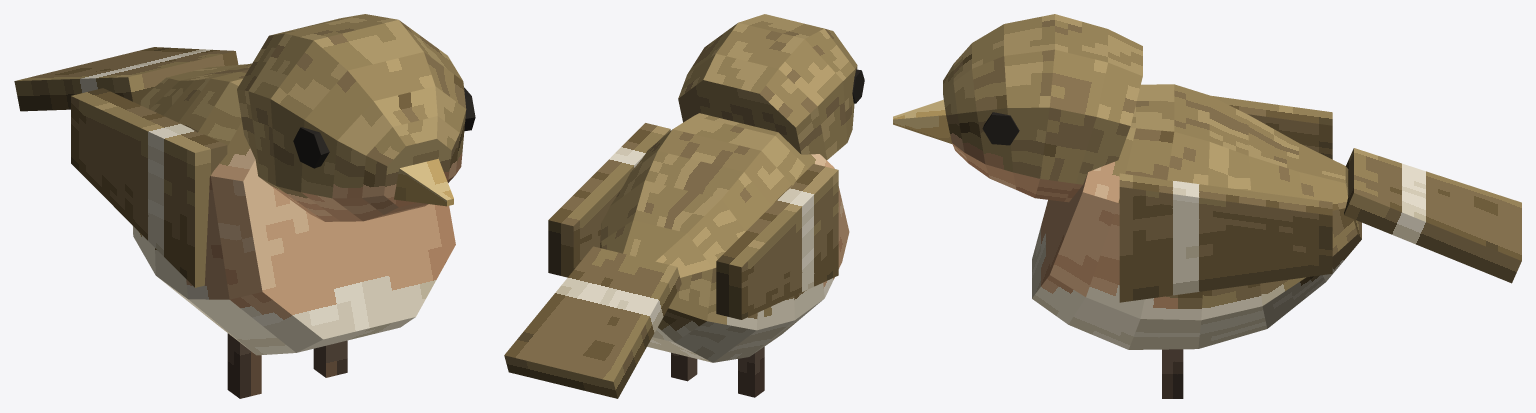
File: bird_finch.glb
3 views of the same model, side by side, from view 1: azimuth 30°, elevation 25°; view 2: azimuth 150°, elevation 25°; view 3: azimuth 270°, elevation 25° (orthographic). The views are drawn at different scales.
Parts seen in each view (by area): view 1: body, head, wing_mirror, tail, beak, leg_mirror, leg, eye_mirror; view 2: body, head, tail, wing_mirror, wing, leg_mirror, leg; view 3: body, head, wing, tail, wing_mirror, beak, leg, eye.
Part boxes in pixels (bbox=[...]): body: bbox=[133, 63, 455, 355]; head: bbox=[237, 14, 466, 221]; wing_mirror: bbox=[71, 88, 227, 287]; tail: bbox=[14, 47, 238, 111]; beak: bbox=[394, 158, 453, 206]; leg_mirror: bbox=[227, 333, 261, 398]; leg: bbox=[313, 340, 347, 377]; eye_mirror: bbox=[293, 127, 329, 168]; body: bbox=[600, 113, 849, 362]; head: bbox=[678, 14, 857, 160]; tail: bbox=[504, 246, 681, 398]; wing_mirror: bbox=[716, 164, 838, 319]; wing: bbox=[548, 123, 670, 277]; leg_mirror: bbox=[738, 346, 764, 397]; leg: bbox=[671, 352, 697, 381]; body: bbox=[1032, 84, 1361, 349]; head: bbox=[943, 14, 1142, 202]; wing: bbox=[1119, 173, 1332, 302]; tail: bbox=[1344, 148, 1521, 283]; wing_mirror: bbox=[1211, 95, 1332, 159]; beak: bbox=[893, 100, 952, 143]; leg: bbox=[1162, 349, 1183, 398]; eye: bbox=[982, 112, 1019, 145].
Bounding box in the file's own units: 4.6 × 7.14 × 11.8.
Materials: 1 (1 with a texture image).
